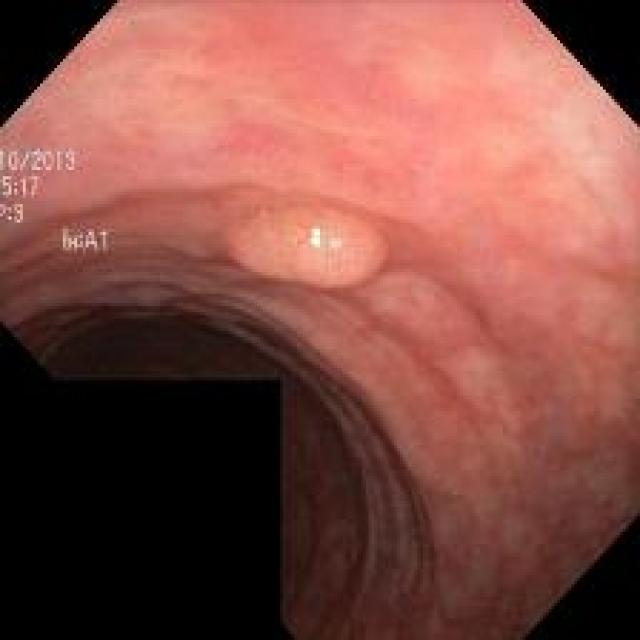Polyps: (226, 207, 388, 289)
